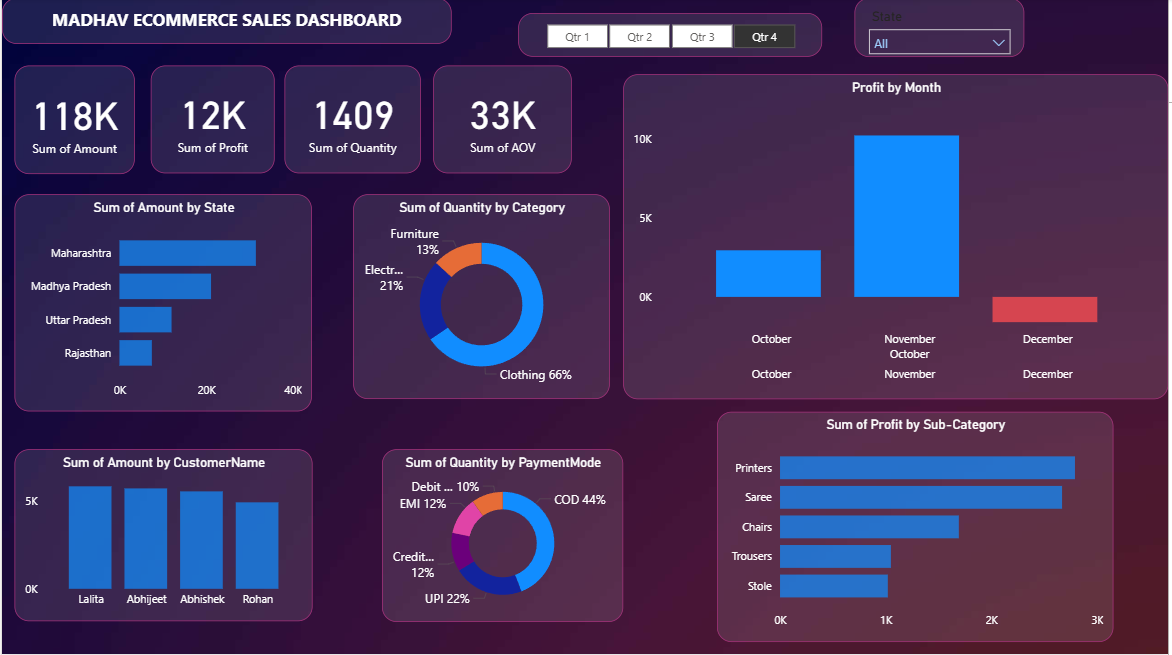

This screenshot's page, from the dashboard's own definition file:
{"tool":"powerbi","page":{"name":"Page 1","canvas":[1280,720],"ordinal":0},"visuals":[{"type":"textbox","box":[0,0,494,50.8],"z":0},{"type":"columnChart","title":"Profit by Month","fields":{"Category":["Orders.Order Date.Variation.Date Hierarchy.Month","Orders.Order Date.Variation.Date Hierarchy.Month","Orders.Order Date.Variation.Date Hierarchy.Month"],"Y":["Sum(Details.Profit)"]},"box":[682,83.7,598.3,356.8],"z":1},{"type":"barChart","fields":{"Category":["Details.Sub-Category"],"Y":["Sum(Details.Profit)"]},"box":[784.9,454.2,435,252.5],"z":2},{"type":"donutChart","fields":{"Category":["Details.Category"],"Y":["Sum(Details.Quantity)"]},"box":[385.6,215.4,281.3,225],"z":3},{"type":"donutChart","fields":{"Y":["Sum(Details.Quantity)"],"Category":["Details.PaymentMode"]},"box":[417.2,495.4,264.8,189.4],"z":4},{"type":"card","fields":{"Values":["Sum(Details.Amount)"]},"box":[13.7,74.1,131.7,119.4],"z":5},{"type":"card","fields":{"Values":["Sum(Details.Profit)"]},"box":[163.3,74.1,135.8,118],"z":6},{"type":"card","fields":{"Values":["Sum(Details.Quantity)"]},"box":[310.1,74.1,149.6,118],"z":7},{"type":"card","fields":{"Values":["Sum(Details.AOV)"]},"box":[473.4,74.1,152.3,118],"z":8},{"type":"barChart","fields":{"Category":["Orders.State"],"Y":["Sum(Details.Amount)"]},"box":[13.7,215.4,326.6,238.8],"z":9},{"type":"columnChart","fields":{"Category":["Orders.CustomerName"],"Y":["Sum(Details.Amount)"]},"box":[14,495,327,189],"z":10},{"type":"slicer","fields":{"Values":["Orders.Order Date.Variation.Date Hierarchy.Quarter"]},"box":[566.7,16.5,333.4,48],"z":13},{"type":"slicer","fields":{"Values":["Orders.State"]},"box":[935.9,0,186.6,64.5],"z":14}]}

Visuals, with their boxes in screenshot pixels (x1, y1, x2, y2), scaled from the page's 1280x720 canvas onto the 1172x655 screenshot:
textbox: crop(0, 0, 452, 46)
"Profit by Month" columnChart: crop(624, 76, 1171, 401)
barChart - Details.Sub-Category x Sum(Details.Profit): crop(719, 413, 1117, 643)
donutChart - Details.Category x Sum(Details.Quantity): crop(353, 196, 611, 401)
donutChart - Sum(Details.Quantity) x Details.PaymentMode: crop(382, 451, 624, 623)
card - Sum(Details.Amount): crop(13, 67, 133, 176)
card - Sum(Details.Profit): crop(150, 67, 274, 175)
card - Sum(Details.Quantity): crop(284, 67, 421, 175)
card - Sum(Details.AOV): crop(433, 67, 573, 175)
barChart - Orders.State x Sum(Details.Amount): crop(13, 196, 312, 413)
columnChart - Orders.CustomerName x Sum(Details.Amount): crop(13, 450, 312, 622)
slicer - Orders.Order Date.Variation.Date Hierarchy.Quarter: crop(519, 15, 824, 59)
slicer - Orders.State: crop(857, 0, 1028, 59)
